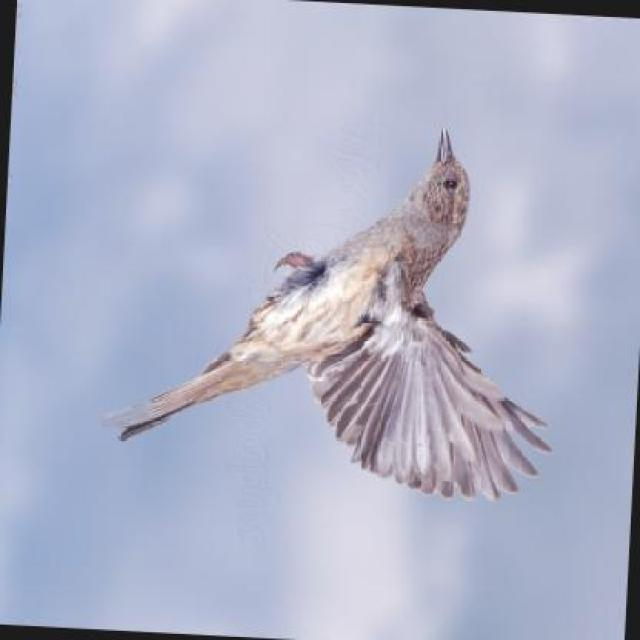Bird: (114, 114, 561, 521)
